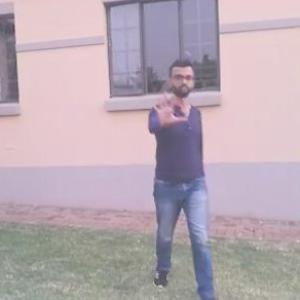follow_hand: (149, 90, 186, 130)
